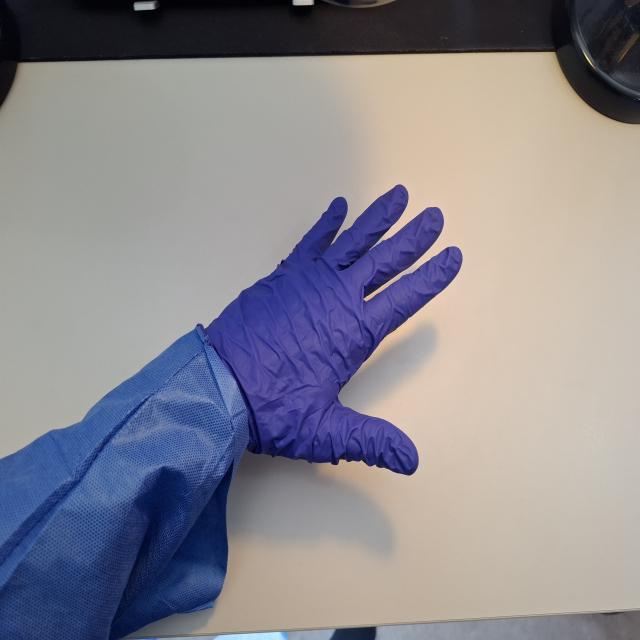glove_on: (199, 181, 465, 479)
